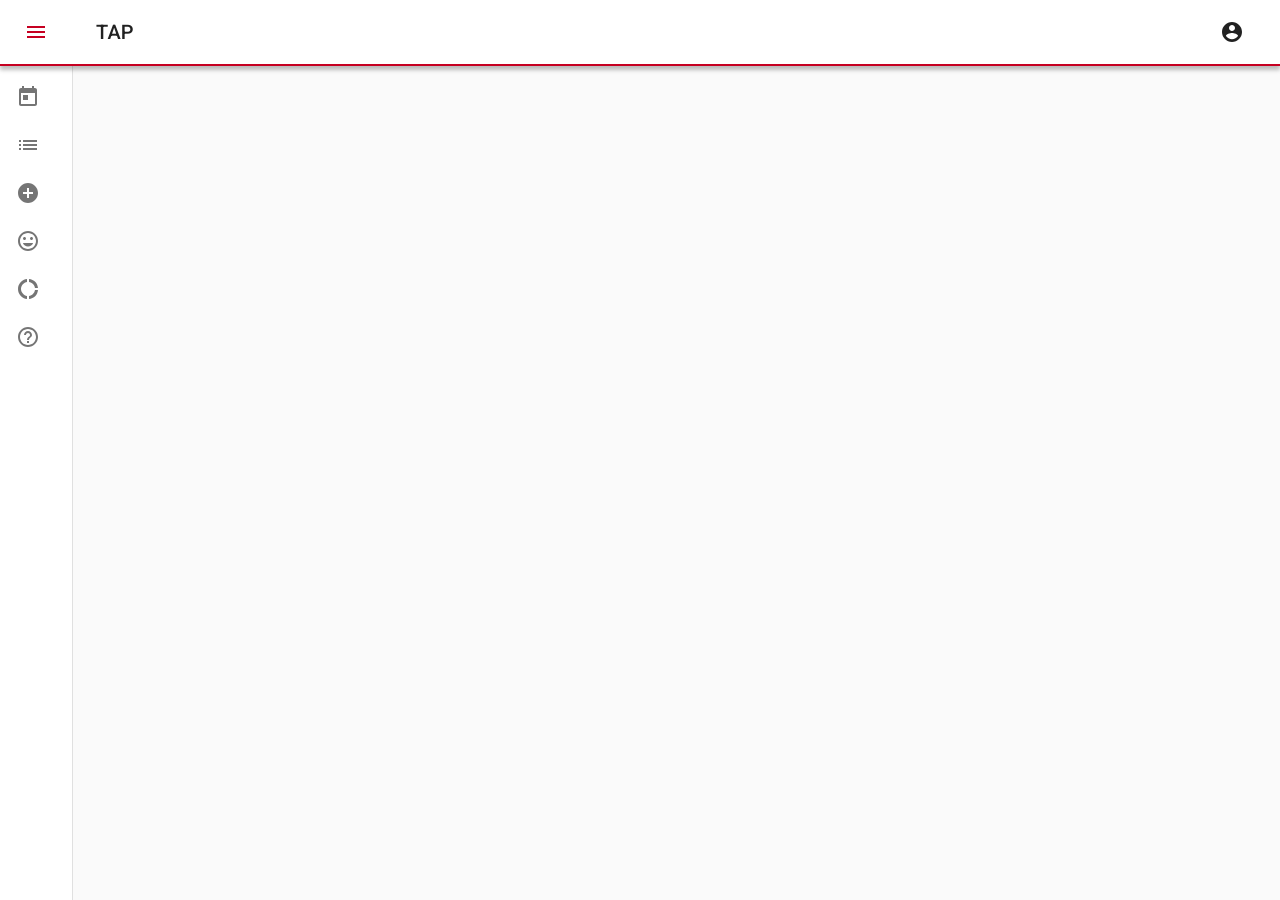
Test: Navigation › should open side menu
The width and height of the screenshot is (1280, 900).
Click the button with test id "side-menu-button": coordinates (36, 32) [12,8,60,56]
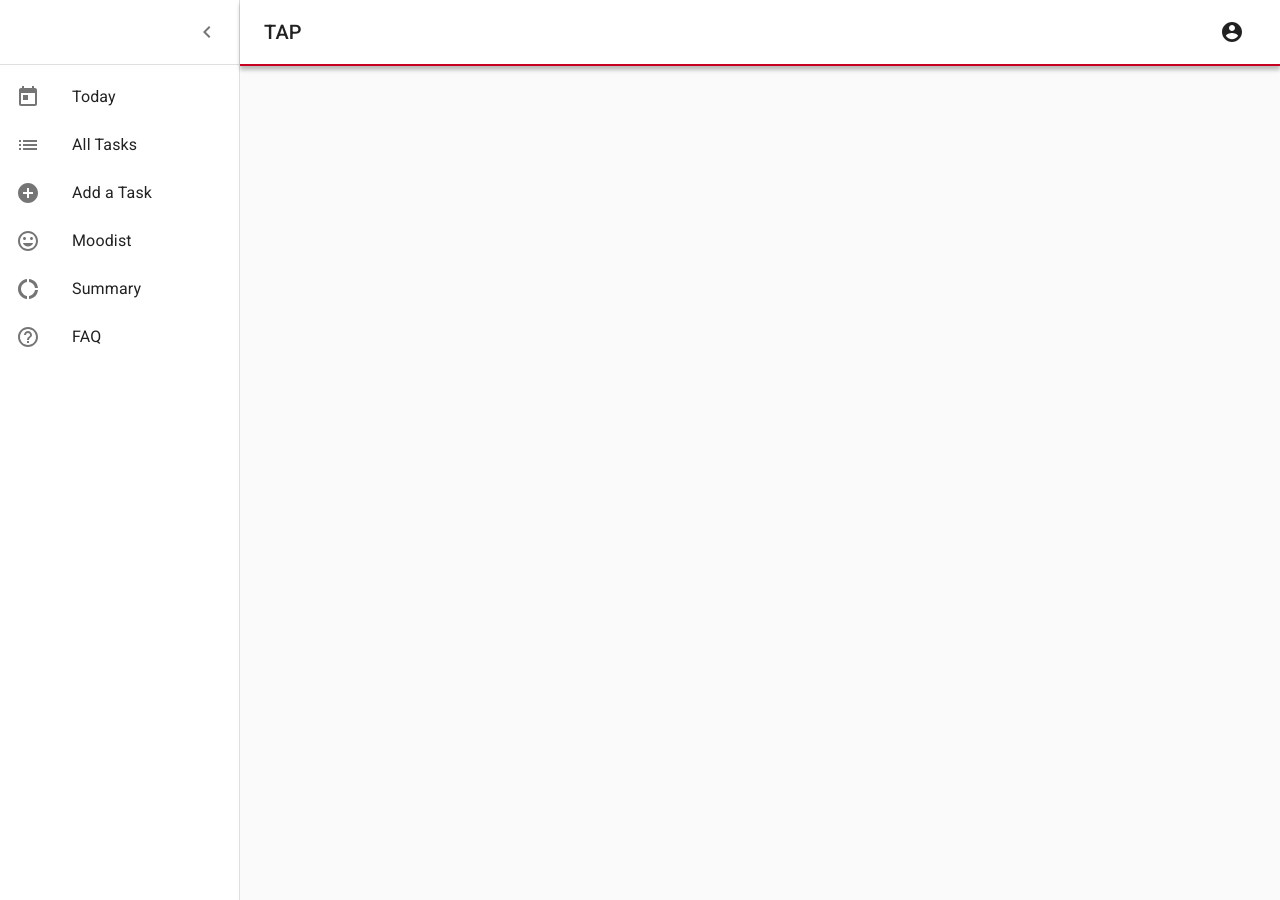
Now the text "Today" is shown, box [72,87,116,106]
Now the text "All Tasks" is shown, box [72,135,137,154]
Now the text "Add a Task" is shown, box [72,183,152,202]
